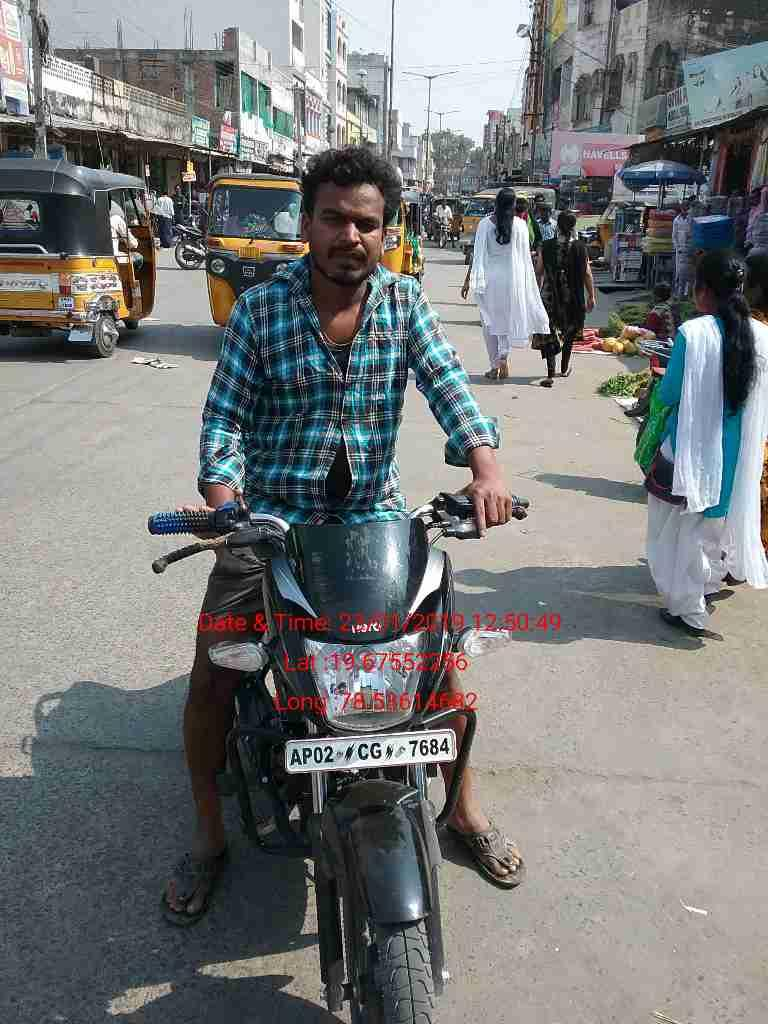plate: (282, 728, 463, 769)
